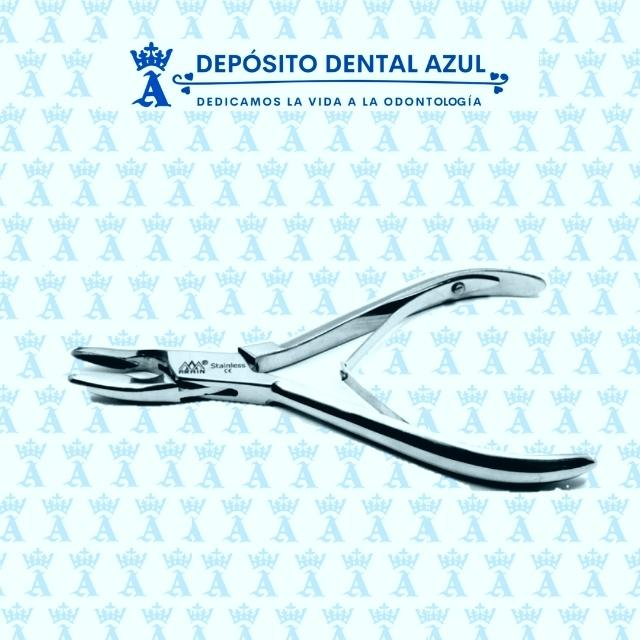gubia: (68, 264, 597, 495)
